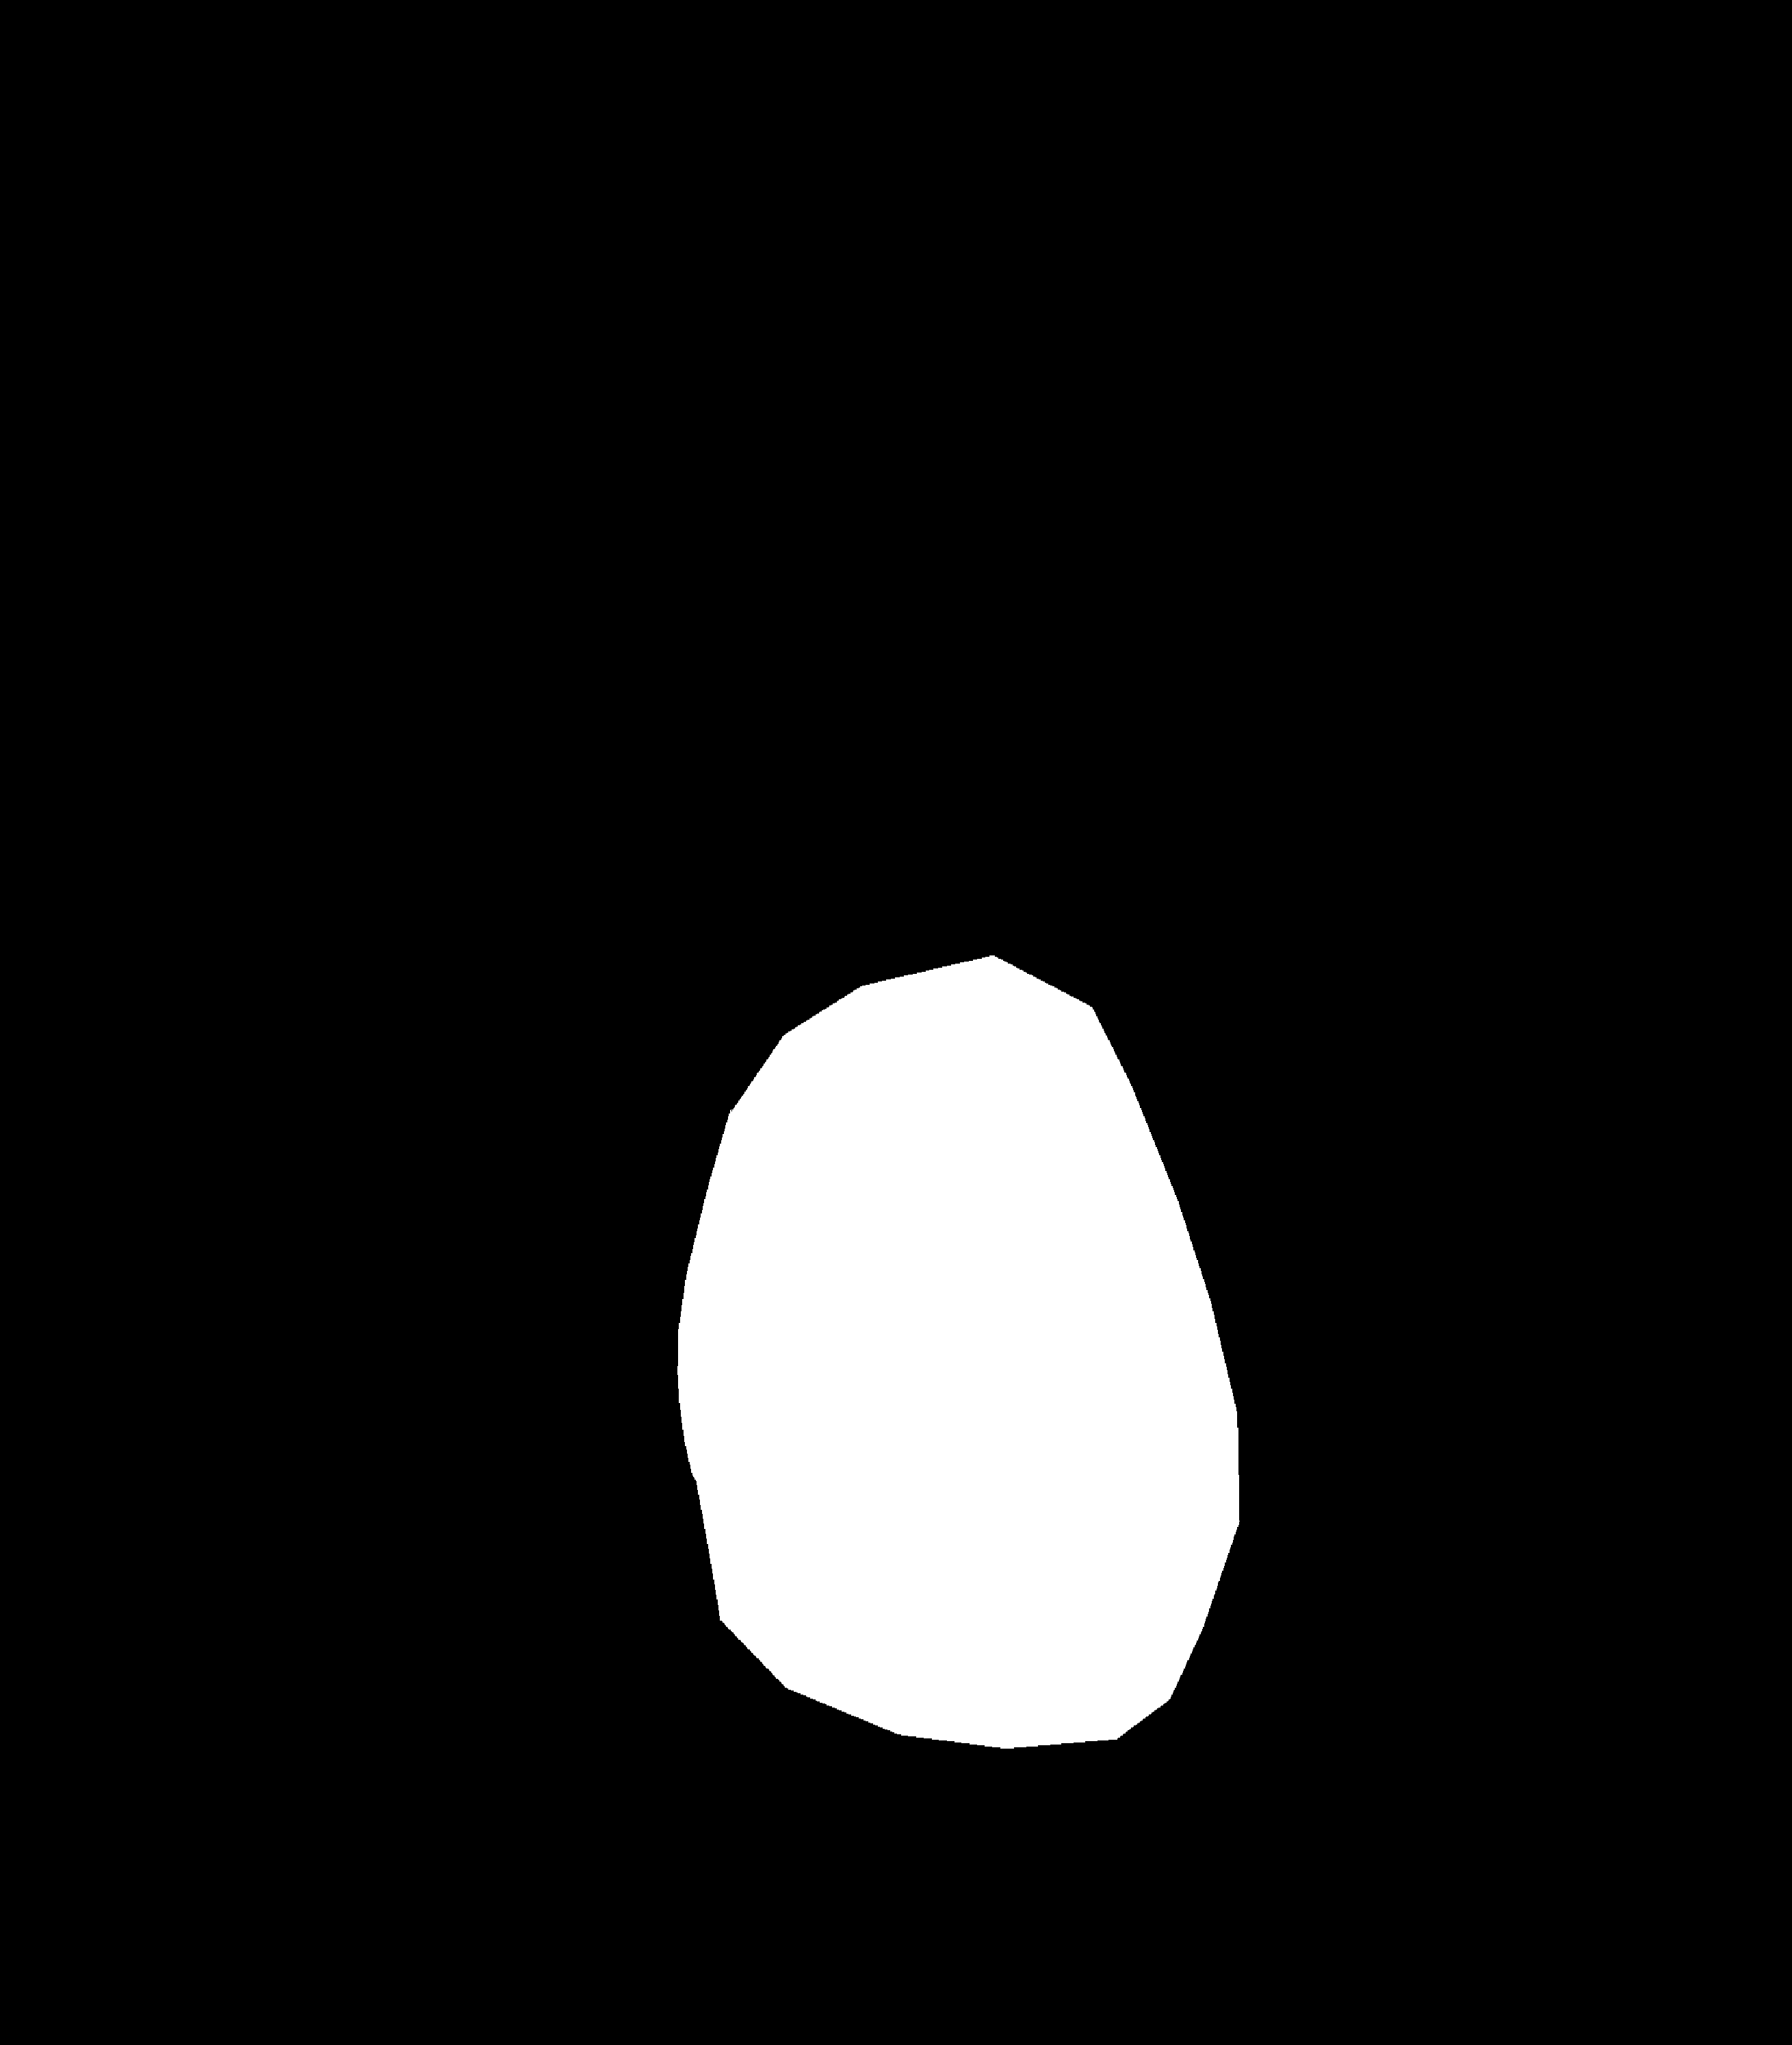heart: (676, 1068, 1239, 1737)
left_lung: (196, 245, 806, 1864)
right_lung: (951, 221, 1582, 1960)
